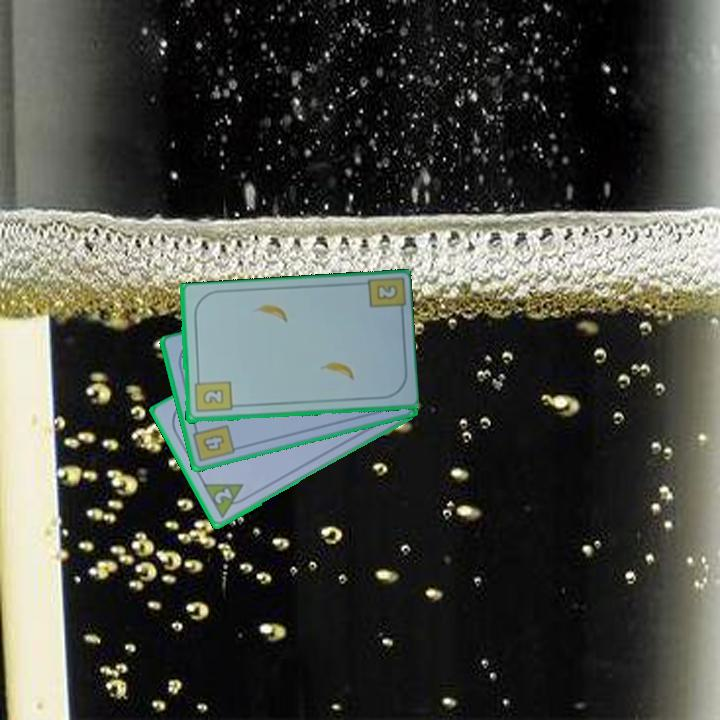2b: (191, 373, 234, 415), (373, 281, 400, 303)
2p: (199, 480, 252, 522)
4b: (190, 421, 238, 465)
